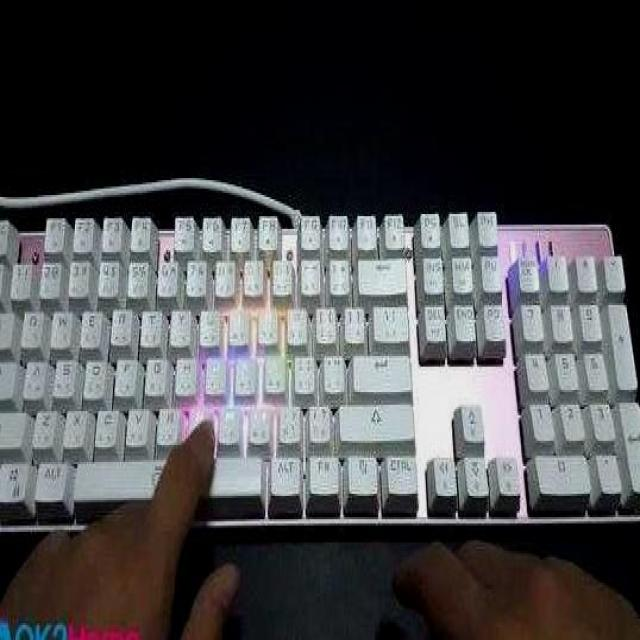keyboard: (0, 199, 640, 551)
